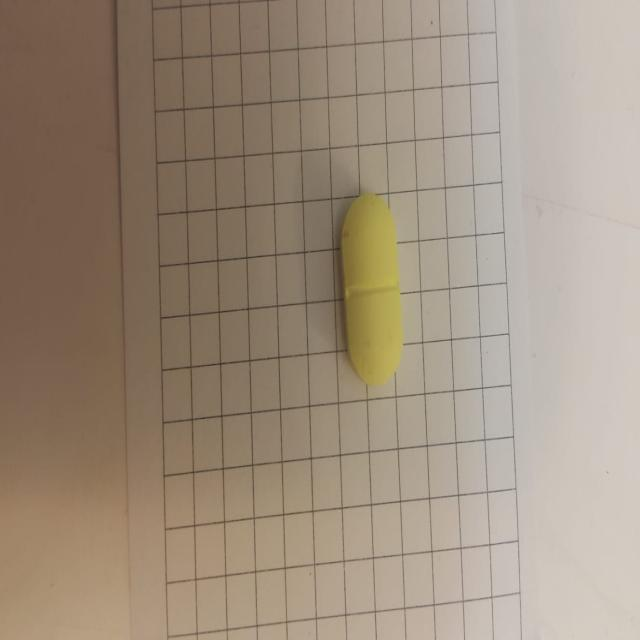pills: (333, 172, 409, 396)
